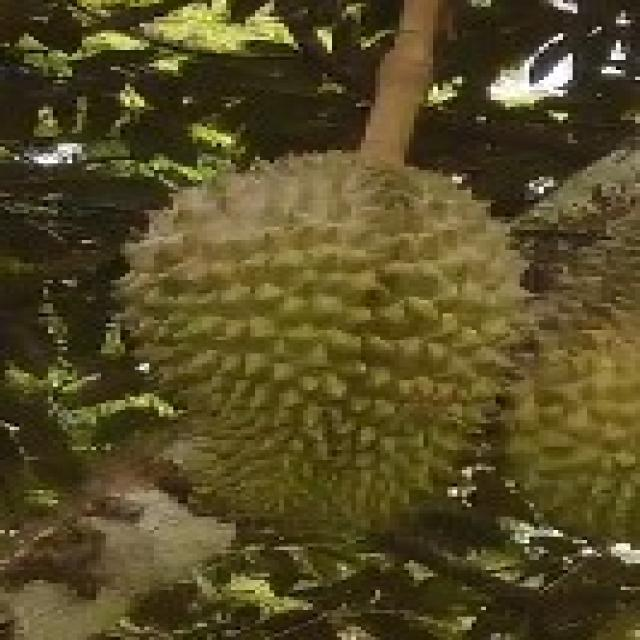immature: (125, 146, 524, 534)
